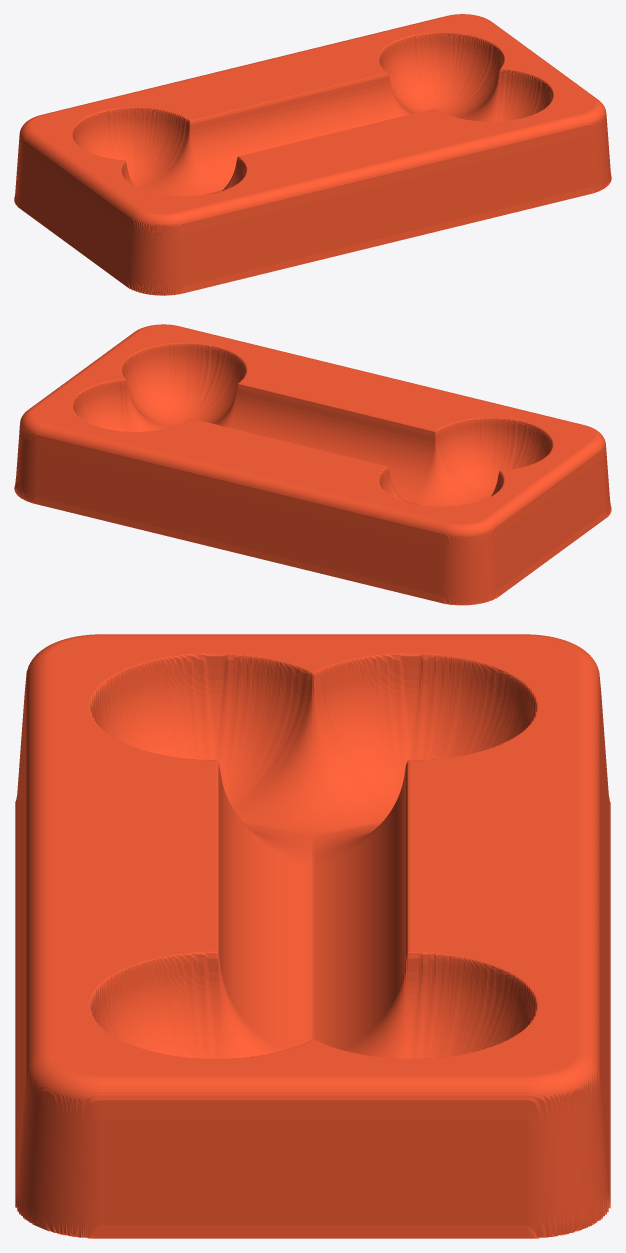
File: mold.glb
The picture shows the model from 3 angles, top to bottom: view 1: azimuth 30°, elevation 25°; view 2: azimuth 150°, elevation 25°; view 3: azimuth 270°, elevation 25°; orthographic projection. The views are drawn at different scales.
Parts seen in each view (by area): view 1: geometry_0; view 2: geometry_0; view 3: geometry_0.
Boxes of the visible parts, <box> form: geometry_0: <box>14,14,611,295</box>; geometry_0: <box>14,324,611,605</box>; geometry_0: <box>15,634,610,1238</box>.
Size of the model in its own units: 0.1178 by 0.0175 by 0.0634.
